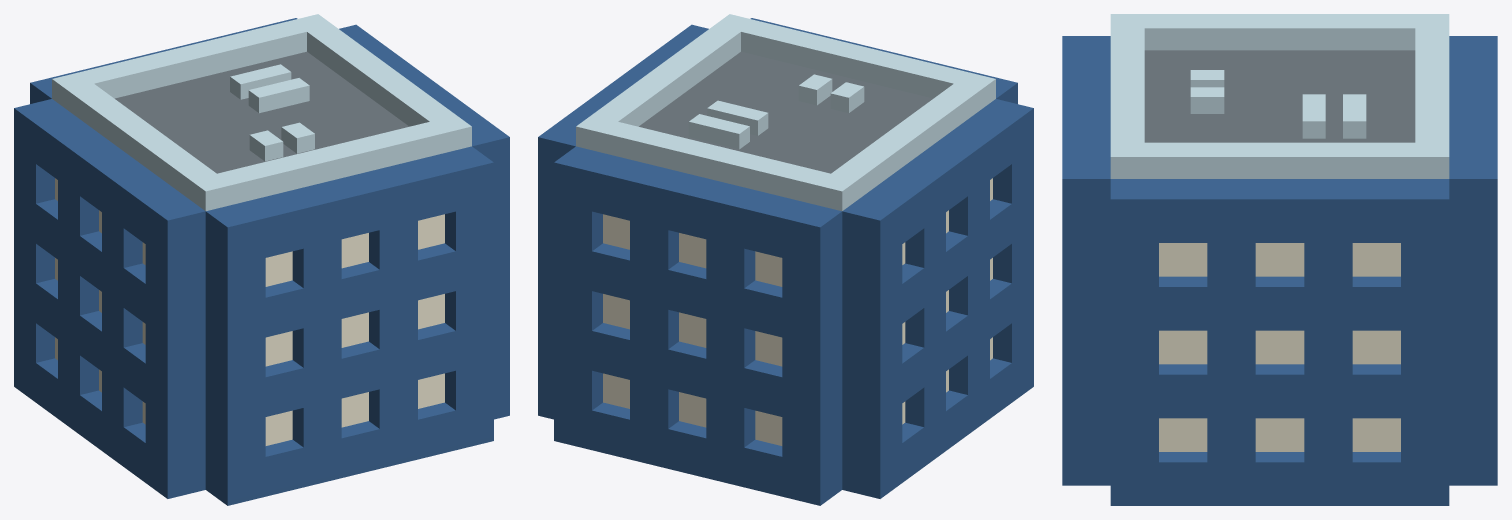
File: Building_1_Extra (Blue).obj
3 views of the same model, side by side, from view 1: azimuth 30°, elevation 25°; view 2: azimuth 150°, elevation 25°; view 3: azimuth 270°, elevation 25° (orthographic). The views are drawn at different scales.
Parts seen in each view (by area): view 1: Building_1_Extra_(Blue); view 2: Building_1_Extra_(Blue); view 3: Building_1_Extra_(Blue).
Part boxes in pixels (bbox=[...]): Building_1_Extra_(Blue): bbox=[14, 14, 509, 505]; Building_1_Extra_(Blue): bbox=[538, 14, 1033, 505]; Building_1_Extra_(Blue): bbox=[1062, 14, 1497, 505].
Size of the model in its own units: 1.8 by 1.5 by 1.8.
